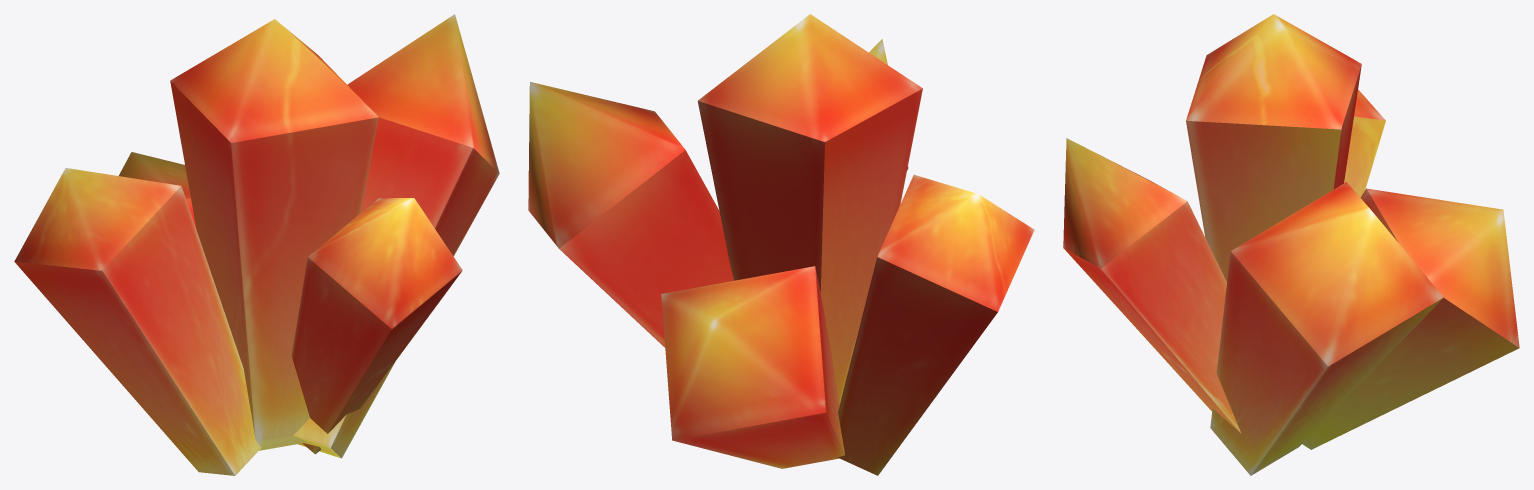
File: Crystal.fbx
3 renders of one model, left to right at view 1: azimuth 30°, elevation 25°; view 2: azimuth 150°, elevation 25°; view 3: azimuth 270°, elevation 25°, orthographic. The views are drawn at different scales.
Visible parts, largest first — view 1: Crystal; view 2: Crystal; view 3: Crystal.
Part boxes in pixels (x1=…): Crystal: x1=14, y1=14, x2=499, y2=475; Crystal: x1=528, y1=14, x2=1034, y2=475; Crystal: x1=1063, y1=14, x2=1519, y2=475.
Size of the model in its own units: 172 by 153 by 146.
